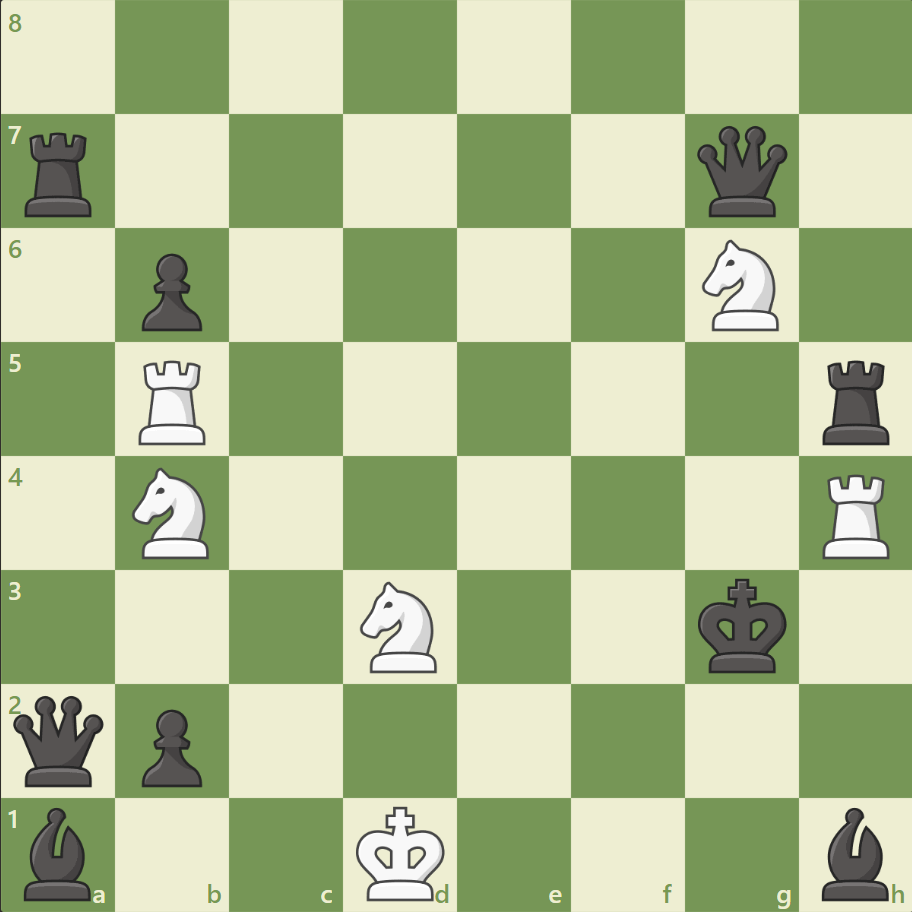K: (351, 798, 451, 906)
N: (124, 461, 222, 564), (351, 575, 449, 677), (692, 234, 789, 337)
R: (814, 466, 897, 563), (133, 352, 215, 449)
b: (17, 801, 101, 904), (812, 801, 896, 904)
k: (692, 571, 792, 679)
p: (133, 246, 208, 337), (133, 700, 208, 791)
q: (691, 122, 790, 222), (10, 690, 109, 789)
r: (19, 125, 102, 222), (814, 352, 897, 449)
